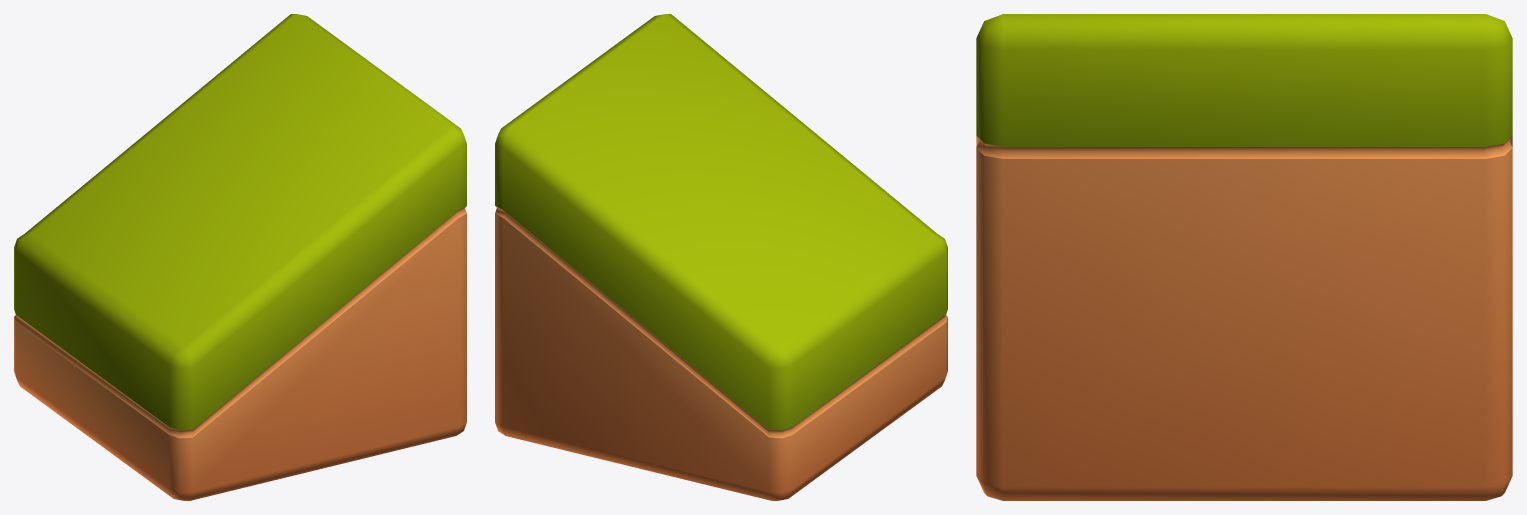
Rendered from 3D_Tile_Ground_Slope_01.fbx.
3 renders of one model, left to right at view 1: azimuth 30°, elevation 25°; view 2: azimuth 150°, elevation 25°; view 3: azimuth 270°, elevation 25°, orthographic. The views are drawn at different scales.
Visible parts, largest first — view 1: 3D_Tile_Ground_Slope_01; view 2: 3D_Tile_Ground_Slope_01; view 3: 3D_Tile_Ground_Slope_01.
Part boxes in pixels (x1,y1,x2,y2): 3D_Tile_Ground_Slope_01: [14, 14, 466, 500]; 3D_Tile_Ground_Slope_01: [495, 14, 947, 500]; 3D_Tile_Ground_Slope_01: [976, 14, 1512, 500].
Bounding box in the file's own units: 200 × 200 × 200.
